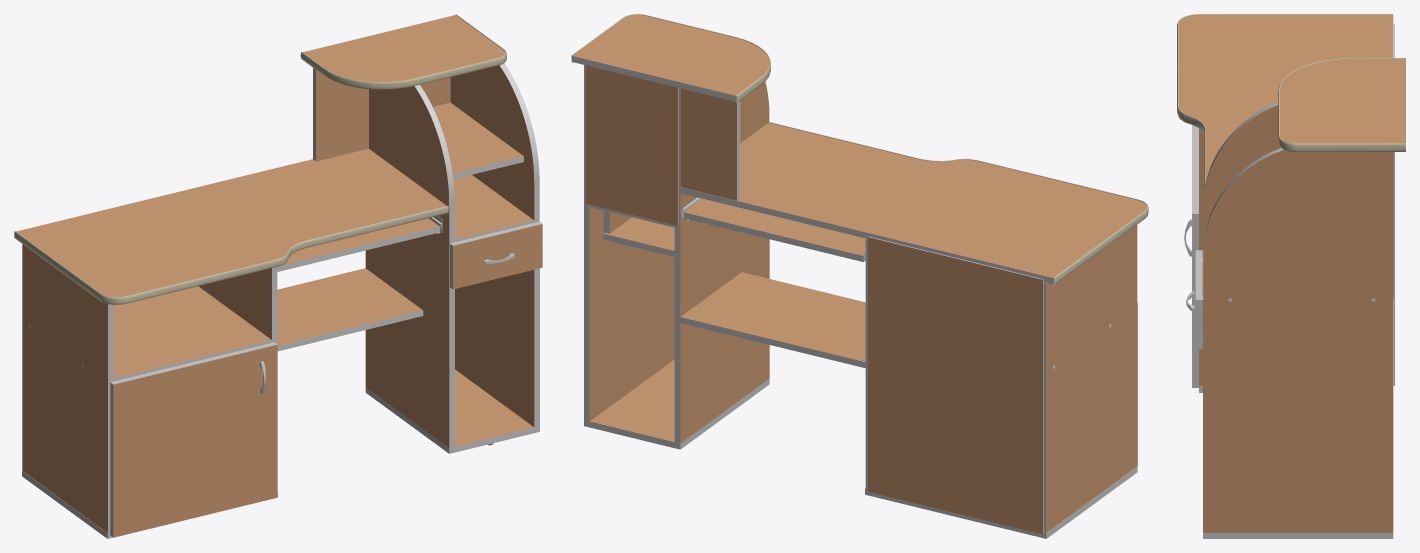
File: sh_blend_swap_cc_0_desk.glb
3 views of the same model, side by side, from view 1: azimuth 30°, elevation 25°; view 2: azimuth 150°, elevation 25°; view 3: azimuth 270°, elevation 25° (orthographic). The views are drawn at different scales.
Bounding box in the file's own units: 1.39 × 1.05 × 0.543.
